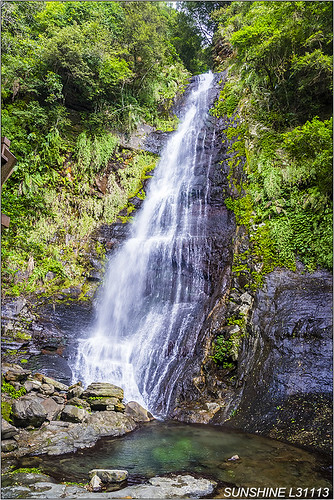wufengciWaterfall: (94, 71, 220, 408)
